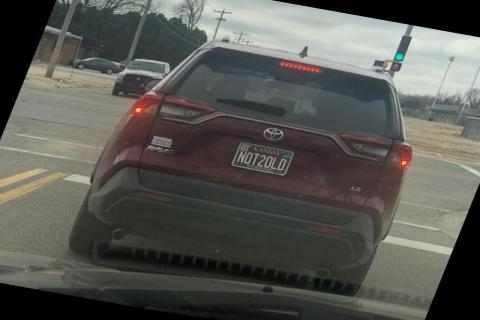LicensePlate: (229, 140, 293, 175)
